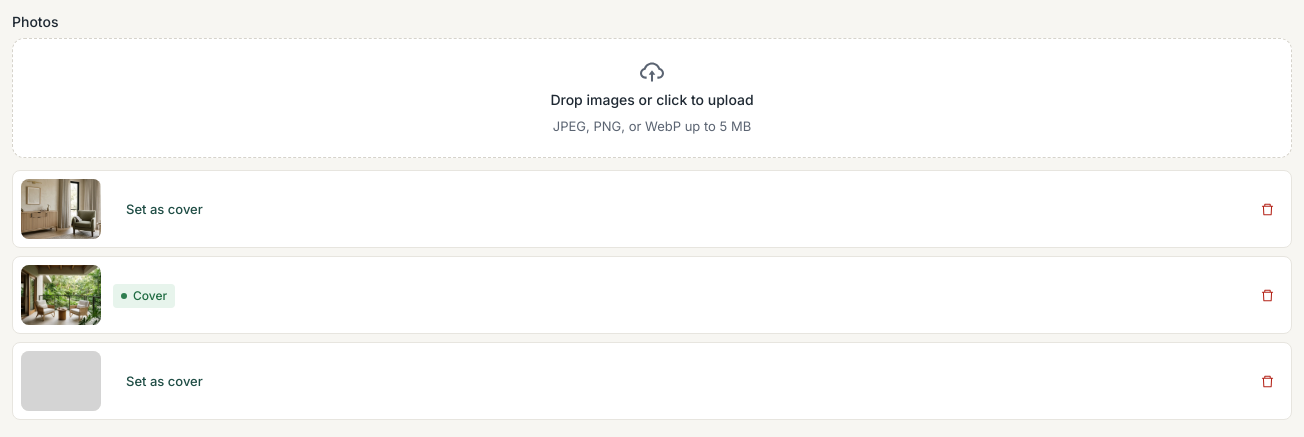
Test: ImageUploader › skips PUT and displays local object URL in mock mode, switches cover, deletes with Popconfirm, and retries failed uploads
Earlier steps of the test are not shown.
Later steps or results of the test are not shown.
Click the button named "Delete photo 3" at (1267,381), box [1251,365,1283,397]
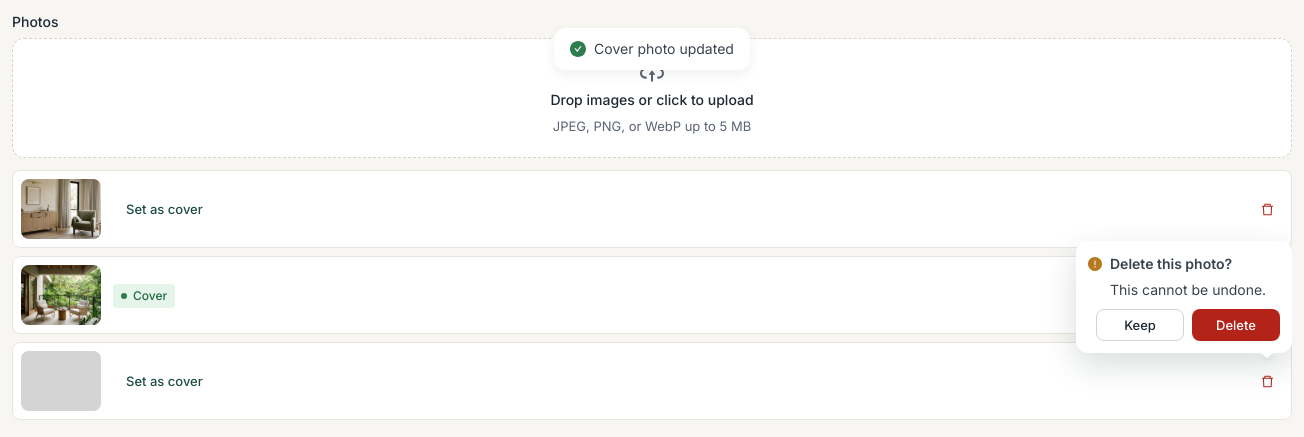
expect the text "Delete this photo?" is shown: met, box [1110,255,1232,272]
